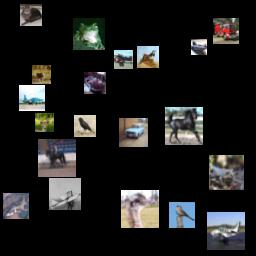airplane: (207, 212, 245, 250), (49, 178, 81, 210), (3, 193, 29, 219), (19, 85, 45, 111), (114, 50, 133, 69)
automobile: (119, 118, 148, 147), (84, 72, 106, 94)
bird: (121, 190, 159, 228), (169, 202, 195, 228), (137, 46, 159, 68), (74, 115, 96, 137)
cat: (20, 4, 42, 26)
deer: (35, 113, 54, 132), (32, 65, 51, 84)
frog: (209, 155, 244, 190), (73, 18, 105, 50)
ship: (191, 39, 207, 55)
truck: (213, 18, 239, 44)
